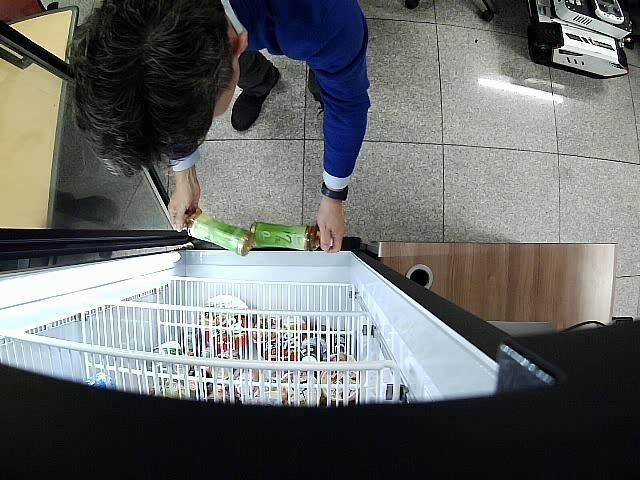19_17cha: (184, 213, 253, 257), (250, 222, 332, 250)
